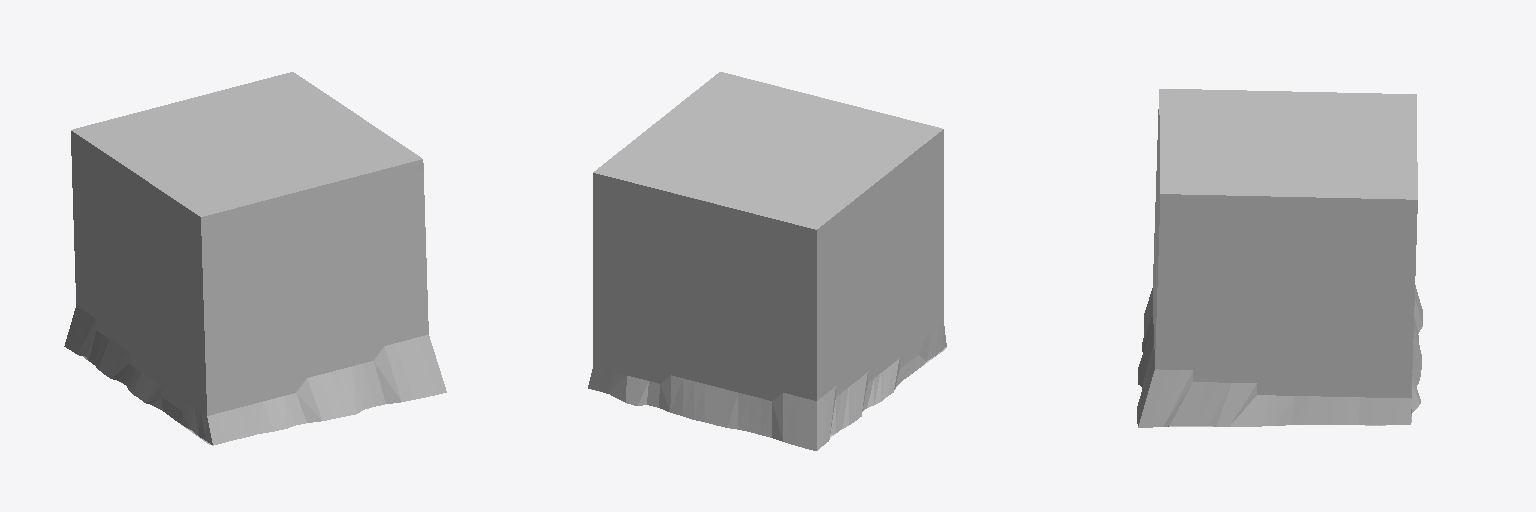
File: mod0061.obj
The picture shows the model from 3 angles: view 1: azimuth 30°, elevation 25°; view 2: azimuth 150°, elevation 25°; view 3: azimuth 270°, elevation 25°; orthographic projection.
Parts seen in each view (by area): view 1: Box001; view 2: Box001; view 3: Box001.
Part boxes in pixels (left/top/right/bottom): Box001: left=64, top=72, right=446, bottom=445; Box001: left=588, top=72, right=946, bottom=450; Box001: left=1137, top=89, right=1422, bottom=427.
Size of the model in its own units: 0.5799 by 0.5271 by 0.5979.